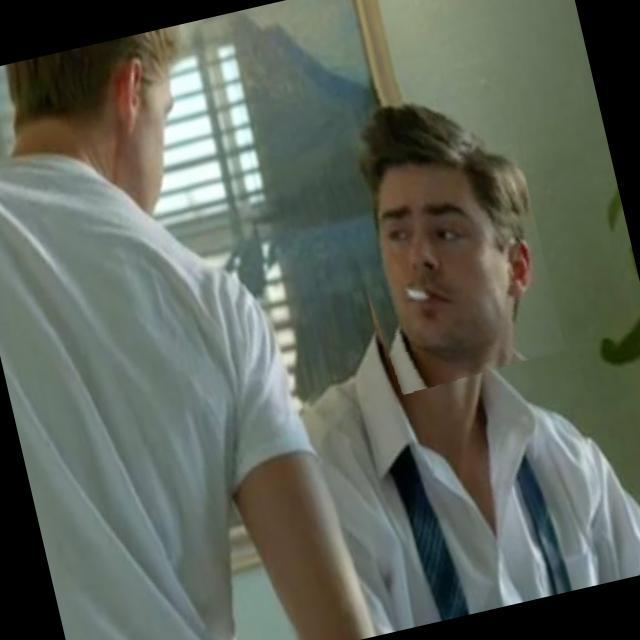cigarette: (365, 273, 421, 324)
